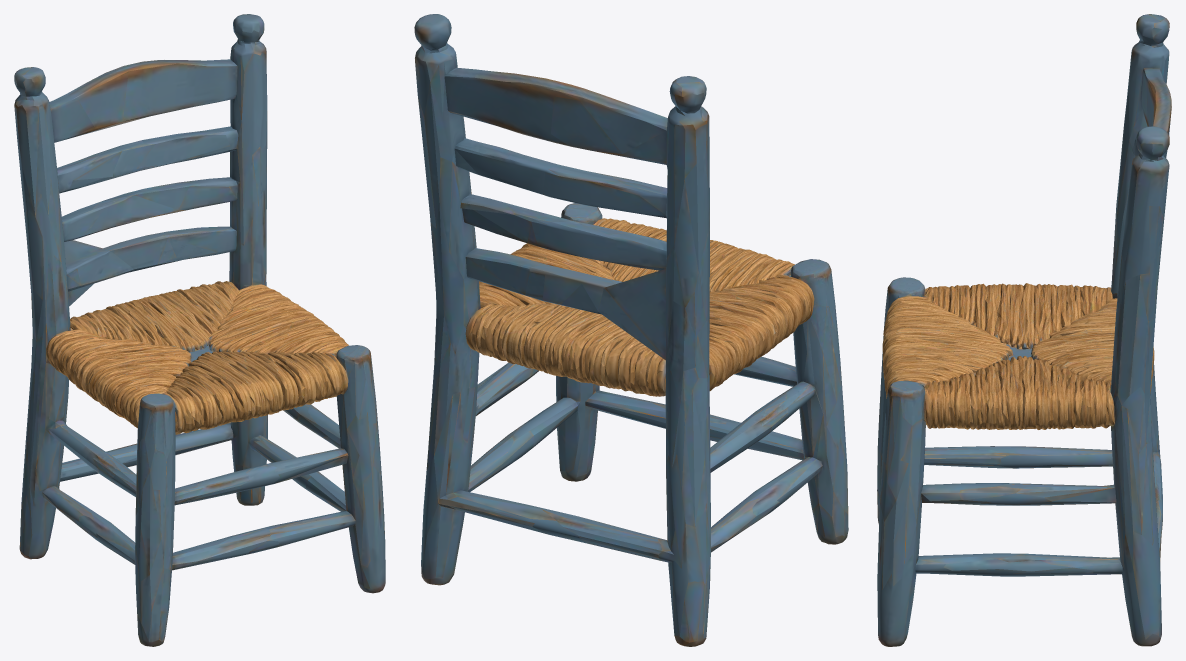
Rendered from chair.glb.
The picture shows the model from 3 angles, left to right: view 1: azimuth 30°, elevation 25°; view 2: azimuth 150°, elevation 25°; view 3: azimuth 270°, elevation 25°; orthographic projection. The views are drawn at different scales.
Visible parts, largest first — view 1: Mesh_0; view 2: Mesh_0; view 3: Mesh_0.
Boxes of the visible parts, left/top/right/bottom form: Mesh_0: left=14, top=14, right=385, bottom=646; Mesh_0: left=414, top=14, right=848, bottom=646; Mesh_0: left=877, top=14, right=1171, bottom=646.
Size of the model in its own units: 1.02 by 1.9 by 0.9911.
1 material, 1 textured.
